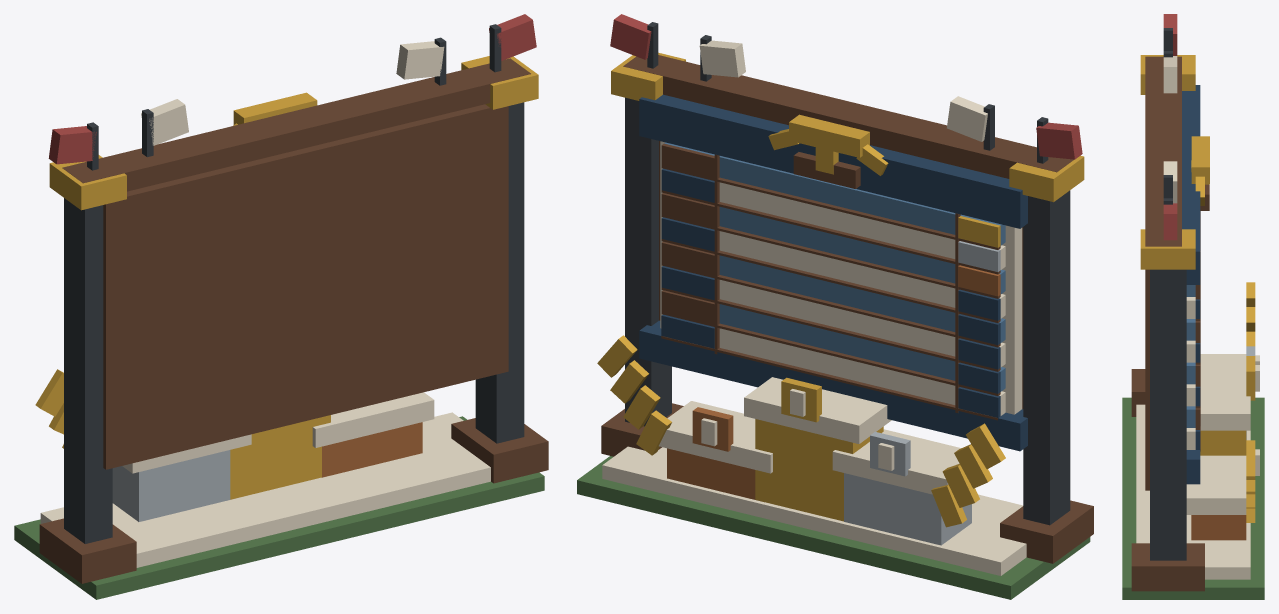
Rendered from KLC_Board_05_Leaderboard.fbx.
3 renders of one model, left to right at view 1: azimuth 30°, elevation 25°; view 2: azimuth 150°, elevation 25°; view 3: azimuth 270°, elevation 25°, orthographic. The views are drawn at different scales.
Parts seen in each view (by area): view 1: Back_Support, Stone_Step, Top_Crossbar, Post_0, Grass_Platform, Post_1, Podium_Second, Podium_First, Post_Foot_0, Podium_Third_Top, Post_Foot_1, Podium_Third (+9 smaller); view 2: Post_0, Top_Header, Top_Crossbar, Grass_Platform, Stone_Step, Post_1, Bottom_Header, Podium_First, Row_8, Podium_Second, Row_3, Row_6 (+58 smaller); view 3: Post_1, Grass_Platform, Top_Crossbar, Stone_Step, Podium_First_Top, Podium_Third_Top, Post_Foot_1, Top_Header, Post_Cap_1, Podium_Third, Podium_First, Back_Support (+23 smaller).
Part boxes in pixels (x1=…): Back_Support: x1=103, y1=104, x2=508, y2=469; Stone_Step: x1=40, y1=412, x2=490, y2=567; Top_Crossbar: x1=62, y1=58, x2=530, y2=191; Post_0: x1=64, y1=198, x2=112, y2=543; Grass_Platform: x1=14, y1=416, x2=544, y2=599; Post_1: x1=475, y1=102, x2=524, y2=443; Podium_Second: x1=112, y1=450, x2=230, y2=521; Podium_First: x1=230, y1=415, x2=330, y2=499; Post_Foot_0: x1=39, y1=518, x2=136, y2=583; Podium_Third_Top: x1=312, y1=392, x2=434, y2=447; Post_Foot_1: x1=451, y1=418, x2=548, y2=483; Podium_Third: x1=322, y1=422, x2=422, y2=477; Post_0: x1=1023, y1=190, x2=1070, y2=525; Top_Header: x1=639, y1=94, x2=1027, y2=228; Top_Crossbar: x1=623, y1=55, x2=1073, y2=178; Grass_Platform: x1=577, y1=456, x2=1090, y2=599; Stone_Step: x1=602, y1=446, x2=1026, y2=575; Post_1: x1=625, y1=97, x2=671, y2=426; Bottom_Header: x1=639, y1=320, x2=1027, y2=451; Podium_First: x1=755, y1=419, x2=883, y2=521; Row_8: x1=664, y1=142, x2=1005, y2=245; Podium_Second: x1=844, y1=473, x2=971, y2=545; Row_3: x1=719, y1=280, x2=1005, y2=367; Row_6: x1=719, y1=207, x2=1005, y2=294; Post_1: x1=1150, y1=269, x2=1186, y2=560; Grass_Platform: x1=1122, y1=397, x2=1264, y2=599; Top_Crossbar: x1=1145, y1=56, x2=1181, y2=246; Stone_Step: x1=1136, y1=404, x2=1250, y2=579; Podium_First_Top: x1=1200, y1=363, x2=1250, y2=430; Podium_Third_Top: x1=1186, y1=455, x2=1246, y2=514; Post_Foot_1: x1=1131, y1=543, x2=1204, y2=591; Top_Header: x1=1182, y1=85, x2=1200, y2=284; Post_Cap_1: x1=1140, y1=229, x2=1195, y2=269; Podium_Third: x1=1191, y1=515, x2=1246, y2=540; Podium_First: x1=1200, y1=430, x2=1246, y2=455; Back_Support: x1=1145, y1=269, x2=1149, y2=490.
Size of the model in its own units: 656 by 588 by 194.
10 materials, 10 textured.
